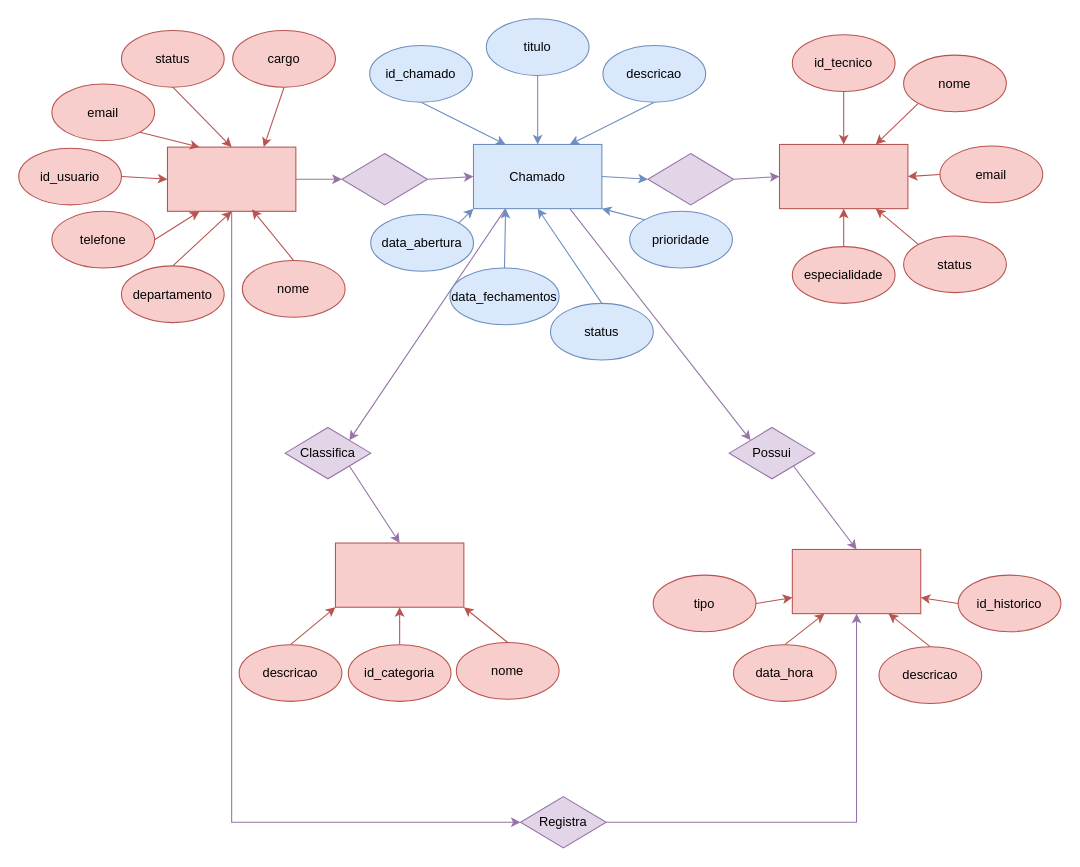
The diagram is 1080 pixels wide and 867 high, and some of its shapes have lost their labels. The centre of each missing label's shape, as x and y in pixels:
Abre: point (384, 178)
Atende: point (690, 178)
Categoria: point (399, 574)
Histórico: point (856, 581)
Técnico: point (843, 176)
Usuário: point (231, 178)
